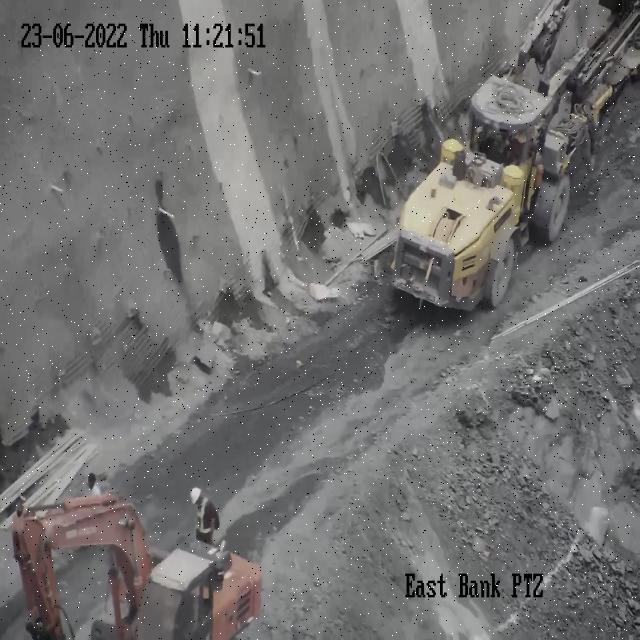Helmet: (190, 487, 200, 502)
Mask: (196, 498, 212, 535)
